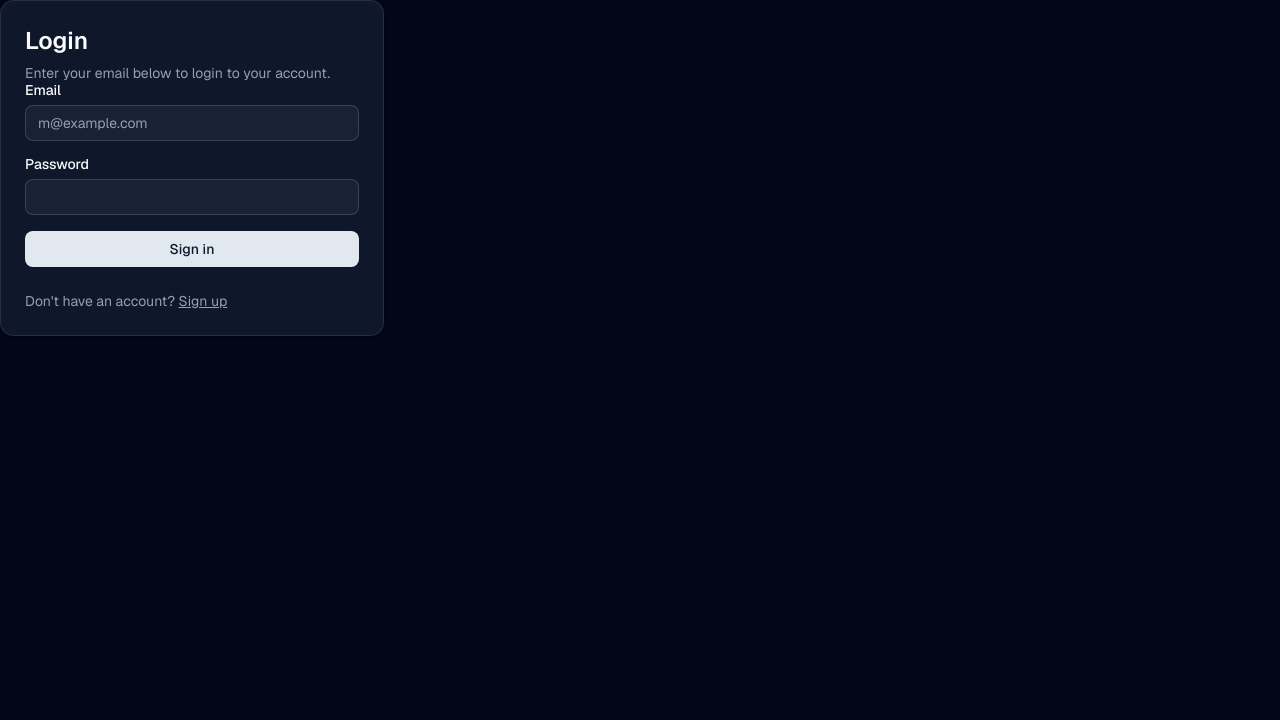
it: AuthForm (Interactive) › should show a success message after a successful login
Type "test@example.com" into the field labelled "Email".
click(192, 123); type("test@example.com")  # box [25,105,359,141]
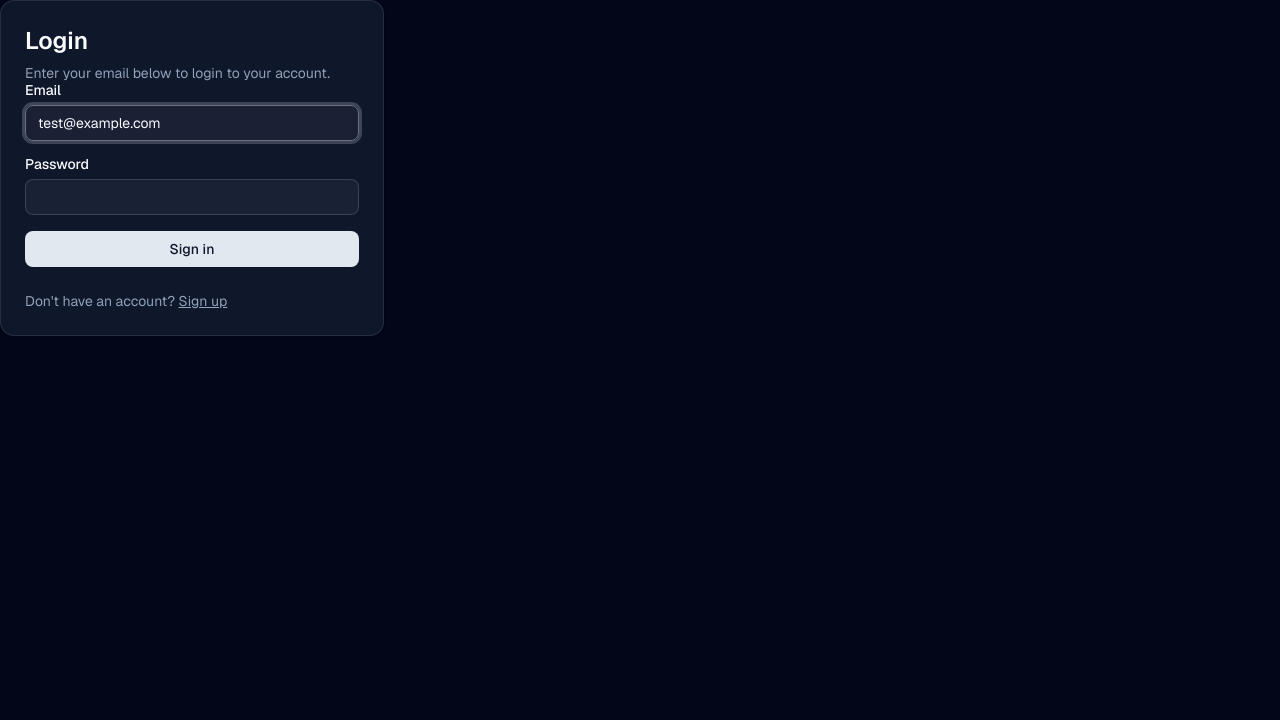
Type "a-secure-password" into the password field labelled "Password".
click(192, 197); type("a-secure-password")  # box [25,179,359,215]
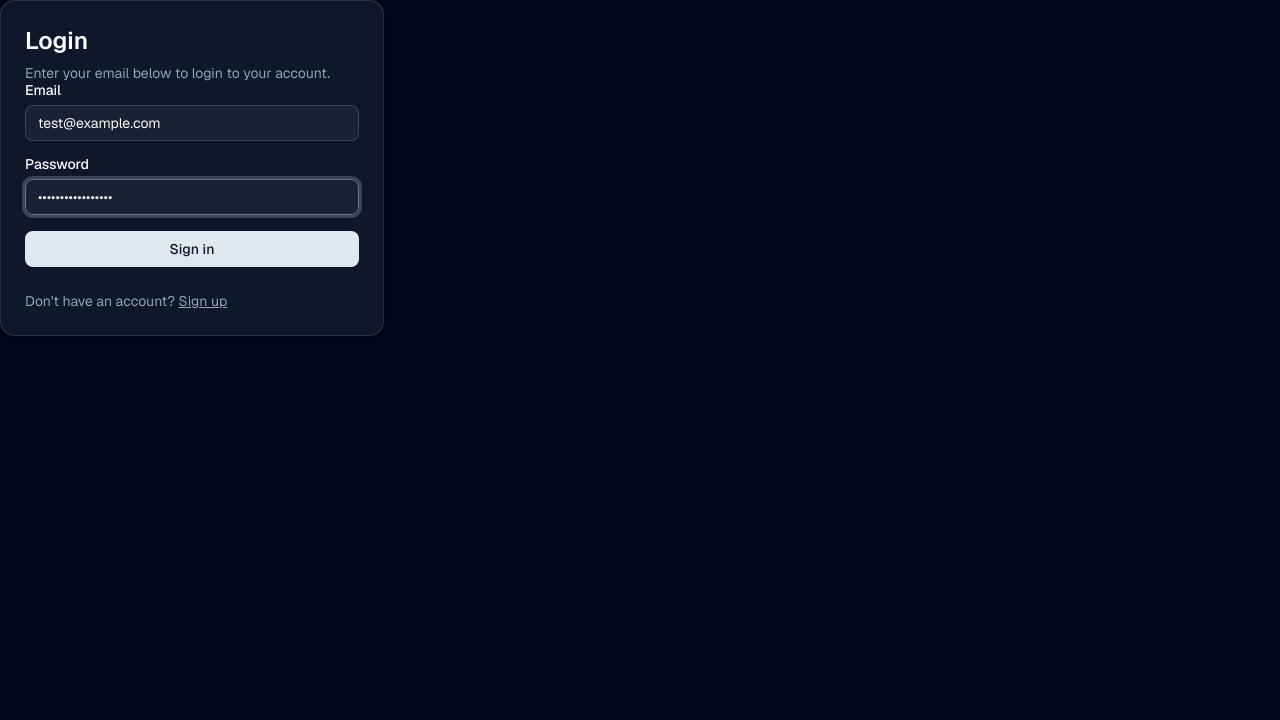
Click the button "Sign in".
click(192, 249)  # box [25,231,359,267]
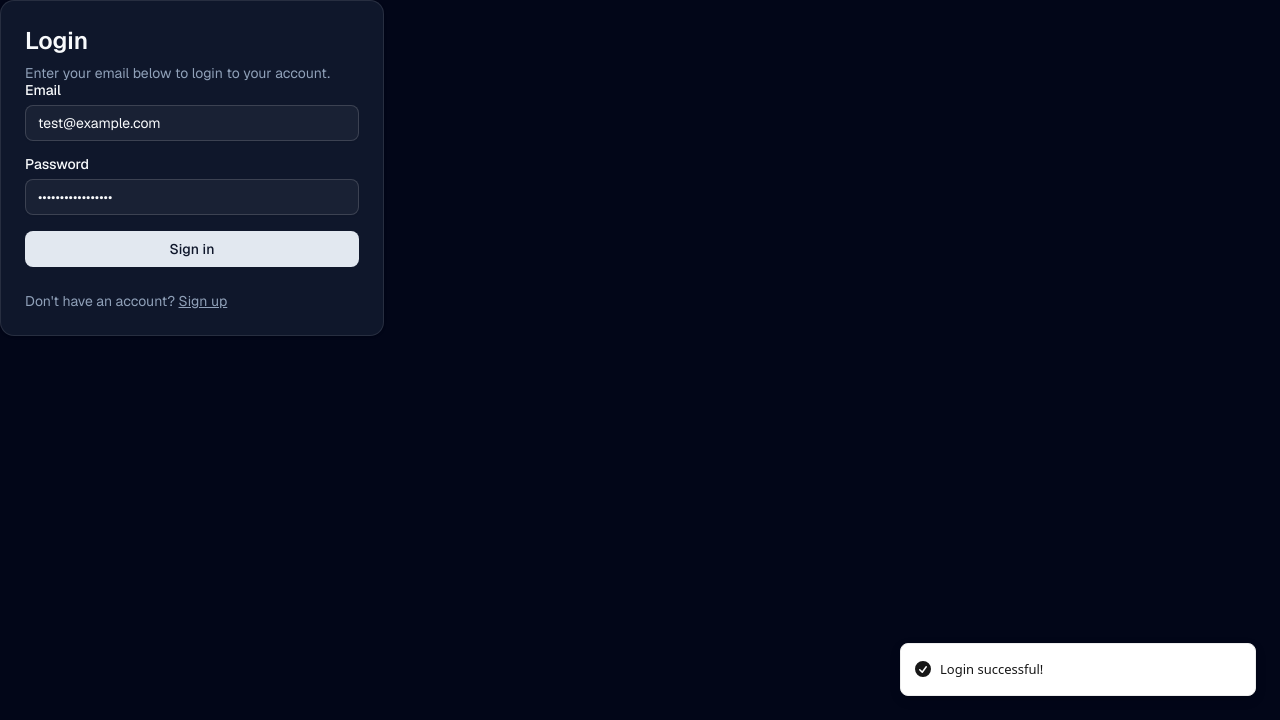
Result: the text "Login successful!" is shown at [940,660,1043,679]
